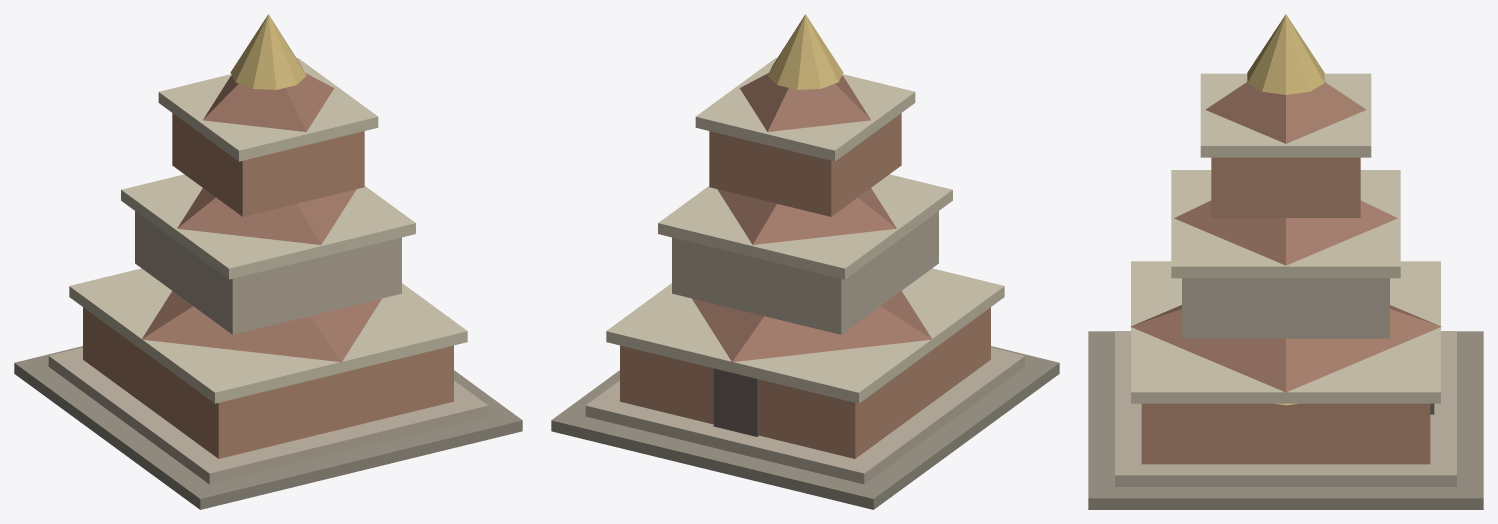
File: gawdawpalin.glb
The picture shows the model from 3 angles, left to right: view 1: azimuth 30°, elevation 25°; view 2: azimuth 150°, elevation 25°; view 3: azimuth 270°, elevation 25°; orthographic projection. The views are drawn at different scales.
Size of the model in its own units: 3.7 by 4.26 by 3.7.
